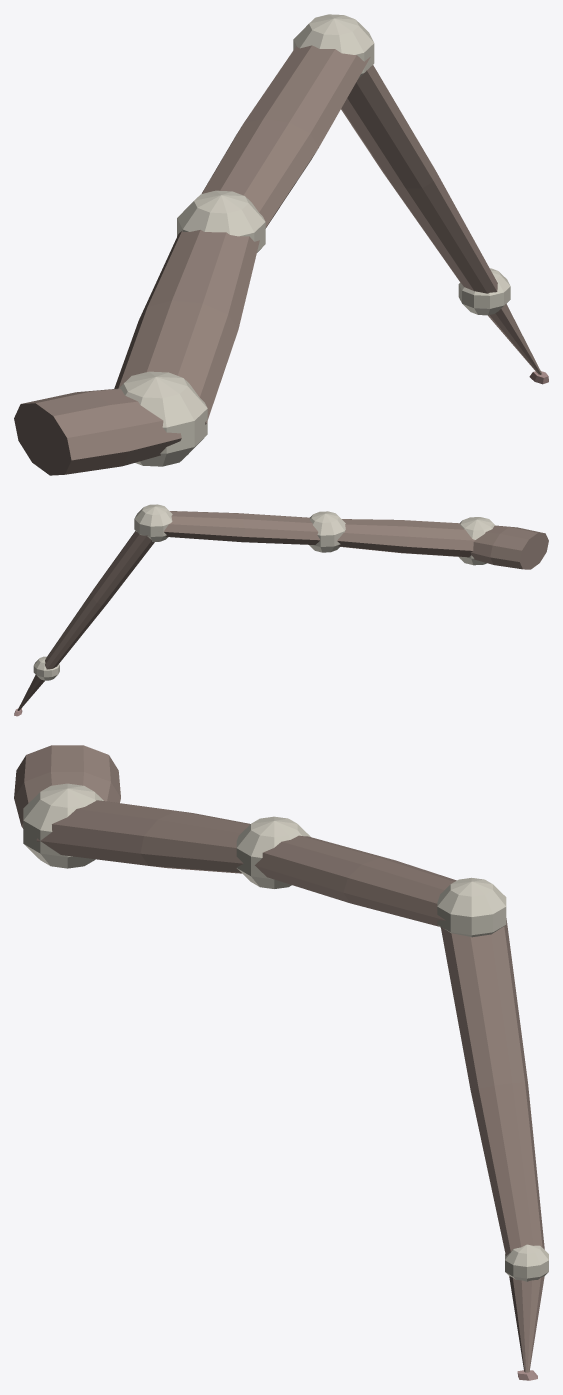
The model's file is crab_leg_r1_original_01.glb.
3 views of the same model, one above another, from view 1: azimuth 30°, elevation 25°; view 2: azimuth 150°, elevation 25°; view 3: azimuth 270°, elevation 25° (orthographic). The views are drawn at different scales.
Parts seen in each view (by area): view 1: R1Segment1, R1Segment2, R1Segment3, R1Segment0, R1Articulation1, R1Articulation2, R1Articulation3, R1Articulation4, R1Segment4; view 2: R1Segment1, R1Segment2, R1Segment3, R1Segment0, R1Articulation2, R1Articulation3, R1Articulation1, R1Articulation4, R1Segment4; view 3: R1Segment3, R1Segment1, R1Segment2, R1Segment0, R1Articulation3, R1Articulation1, R1Articulation2, R1Segment4, R1Articulation4.
Boxes of the visible parts, bbox=[...] form: R1Segment1: bbox=[114, 230, 259, 424]; R1Segment2: bbox=[201, 45, 370, 228]; R1Segment3: bbox=[341, 65, 497, 293]; R1Segment0: bbox=[14, 388, 181, 475]; R1Articulation1: bbox=[119, 371, 207, 466]; R1Articulation2: bbox=[177, 190, 265, 252]; R1Articulation3: bbox=[293, 14, 374, 78]; R1Articulation4: bbox=[458, 268, 510, 315]; R1Segment4: bbox=[488, 304, 541, 374]; R1Segment1: bbox=[337, 519, 475, 557]; R1Segment2: bbox=[164, 511, 320, 544]; R1Segment3: bbox=[45, 531, 154, 669]; R1Segment0: bbox=[470, 525, 548, 569]; R1Articulation2: bbox=[309, 511, 345, 552]; R1Articulation3: bbox=[134, 504, 172, 541]; R1Articulation1: bbox=[458, 517, 495, 565]; R1Articulation4: bbox=[33, 656, 59, 680]; R1Segment4: bbox=[17, 675, 44, 710]; R1Segment3: bbox=[440, 918, 544, 1255]; R1Segment1: bbox=[36, 800, 250, 873]; R1Segment2: bbox=[255, 835, 456, 926]; R1Segment0: bbox=[14, 745, 120, 828]; R1Articulation3: bbox=[437, 877, 506, 937]; R1Articulation1: bbox=[23, 783, 103, 868]; R1Articulation2: bbox=[236, 816, 310, 888]; R1Segment4: bbox=[509, 1276, 544, 1372]; R1Articulation4: bbox=[505, 1244, 548, 1281].
Size of the model in its own units: 0.5465 by 0.3023 by 0.3727.
